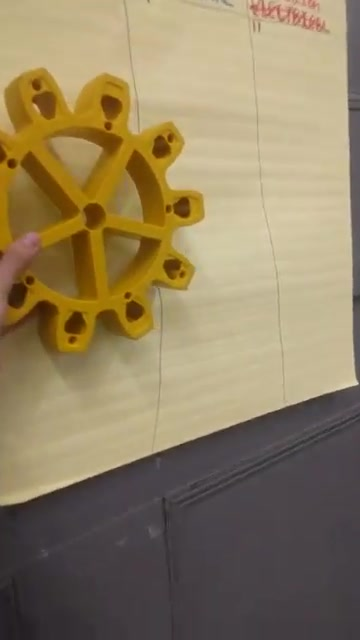gear: (1, 67, 205, 360)
